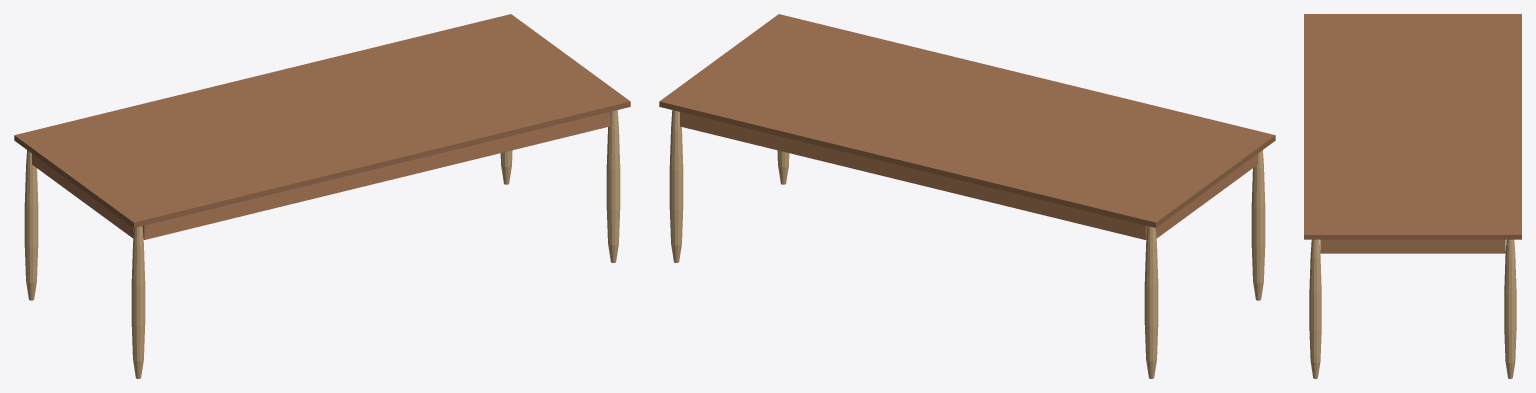
File: CAL-DTB-8-seat.glb
The picture shows the model from 3 angles, left to right: view 1: azimuth 30°, elevation 25°; view 2: azimuth 150°, elevation 25°; view 3: azimuth 270°, elevation 25°; orthographic projection. The views are drawn at different scales.
Parts seen in each view (by area): view 1: top:pbr, apron-f:pbr, leg-fl:pbr, leg-fr:pbr, leg-bl:pbr, apron-l:pbr; view 2: top:pbr, apron-b:pbr, leg-bl:pbr, leg-br:pbr, leg-fl:pbr, apron-l:pbr; view 3: top:pbr, apron-r:pbr, leg-fr:pbr, leg-br:pbr.
Boxes of the visible parts, x1,y1,x2,y2 form: top:pbr: [14, 14, 630, 227]; apron-f:pbr: [142, 112, 609, 239]; leg-fl:pbr: [131, 226, 145, 378]; leg-fr:pbr: [606, 110, 620, 262]; leg-bl:pbr: [24, 150, 38, 300]; apron-l:pbr: [32, 154, 133, 238]; top:pbr: [659, 14, 1275, 227]; apron-b:pbr: [680, 112, 1147, 239]; leg-bl:pbr: [1144, 226, 1158, 378]; leg-br:pbr: [669, 110, 683, 262]; leg-fl:pbr: [1251, 150, 1265, 300]; apron-l:pbr: [1156, 154, 1257, 238]; top:pbr: [1304, 14, 1521, 239]; apron-r:pbr: [1320, 239, 1505, 253]; leg-fr:pbr: [1309, 239, 1321, 378]; leg-br:pbr: [1504, 239, 1516, 378].
Bounding box in the file's own units: 2.4 × 0.75 × 1.
